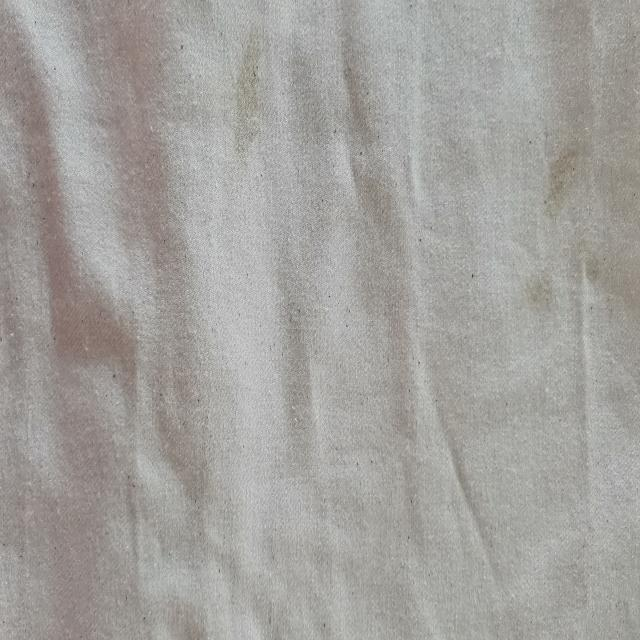taaaches: (228, 36, 274, 167), (522, 255, 562, 330), (545, 144, 587, 214), (580, 241, 603, 292)
